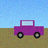vehicle: (14, 20, 44, 38)
